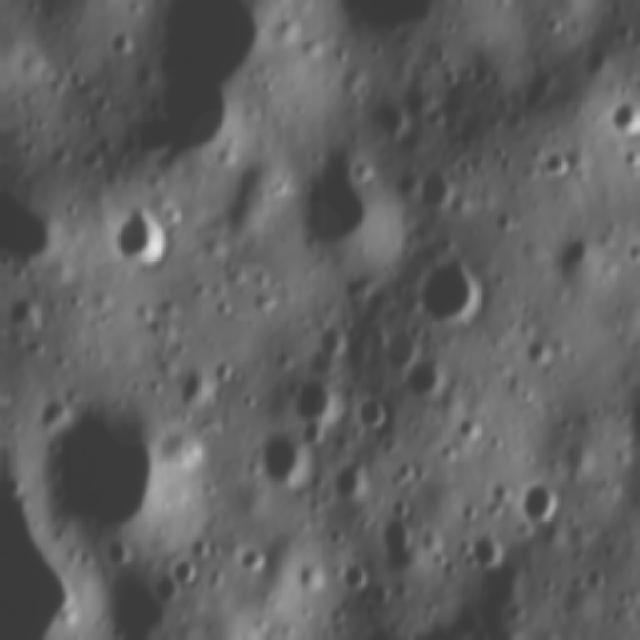crater: (29, 404, 160, 547), (291, 145, 380, 260), (410, 251, 484, 329), (102, 204, 176, 273), (250, 424, 316, 496), (376, 502, 424, 572), (502, 475, 558, 534), (284, 368, 342, 421), (395, 355, 450, 410), (319, 452, 372, 505), (457, 521, 511, 573), (367, 326, 419, 379), (410, 164, 461, 216), (348, 391, 397, 444), (594, 93, 640, 144), (515, 329, 557, 369), (3, 289, 42, 331), (164, 548, 202, 588), (328, 558, 370, 593), (539, 143, 572, 186), (230, 539, 268, 573), (143, 575, 175, 607), (107, 25, 133, 61), (58, 64, 88, 90), (166, 637, 203, 640), (637, 268, 640, 304), (0, 422, 2, 472)
